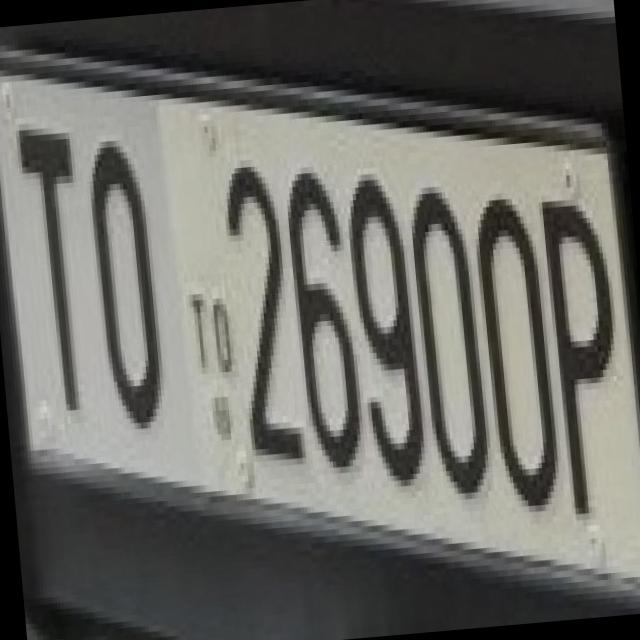0: (456, 166, 561, 504), (388, 153, 491, 491), (71, 119, 174, 432)
2: (210, 150, 303, 470)
6: (262, 145, 373, 477)
9: (329, 158, 436, 490)
P: (526, 177, 638, 516)
T: (3, 108, 94, 420)
